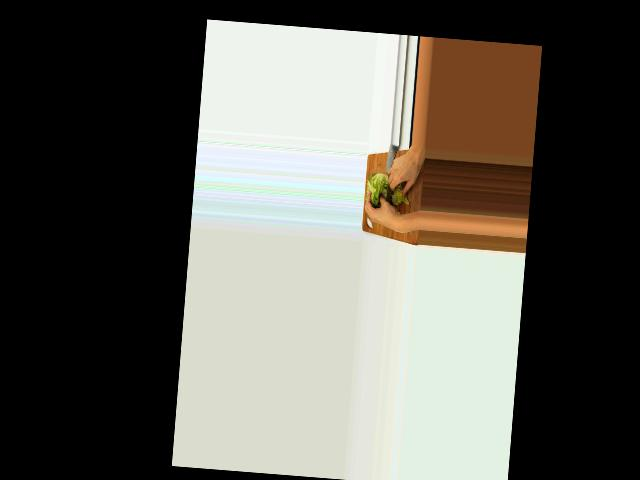lettuce: (366, 171, 391, 207)
